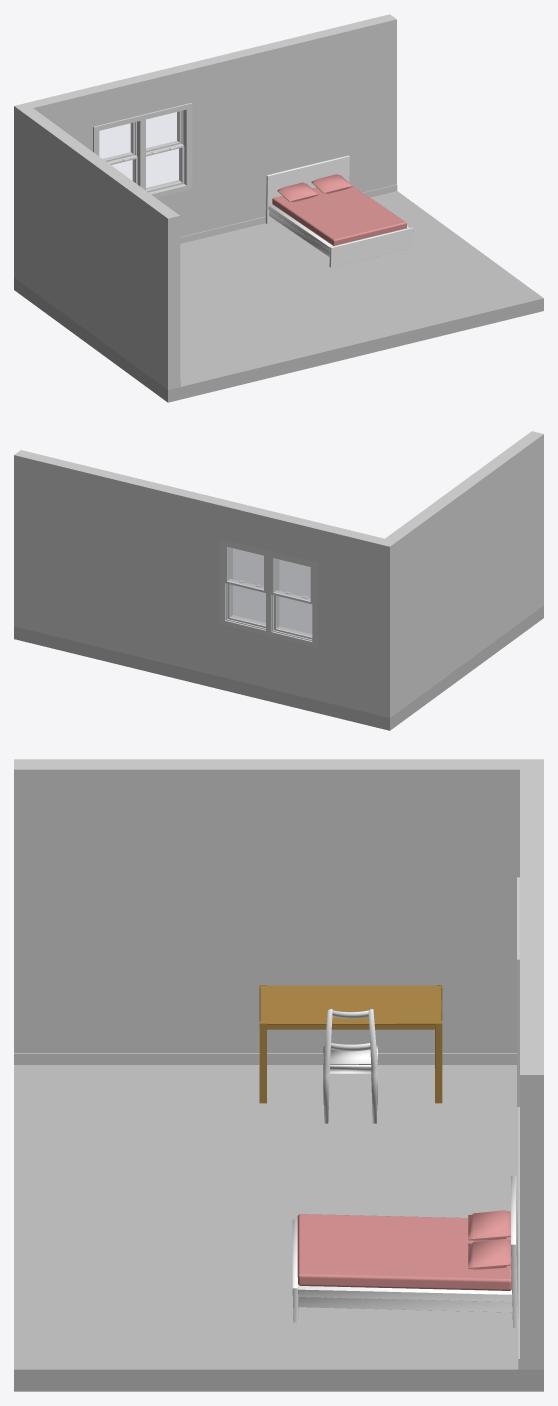
Rendered from L14_W20_furniture2_circulation1.glb.
The picture shows the model from 3 angles, top to bottom: view 1: azimuth 30°, elevation 25°; view 2: azimuth 150°, elevation 25°; view 3: azimuth 270°, elevation 25°; orthographic projection. The views are drawn at different scales.
Bounding box in the file's own units: 248 × 116 × 176.
